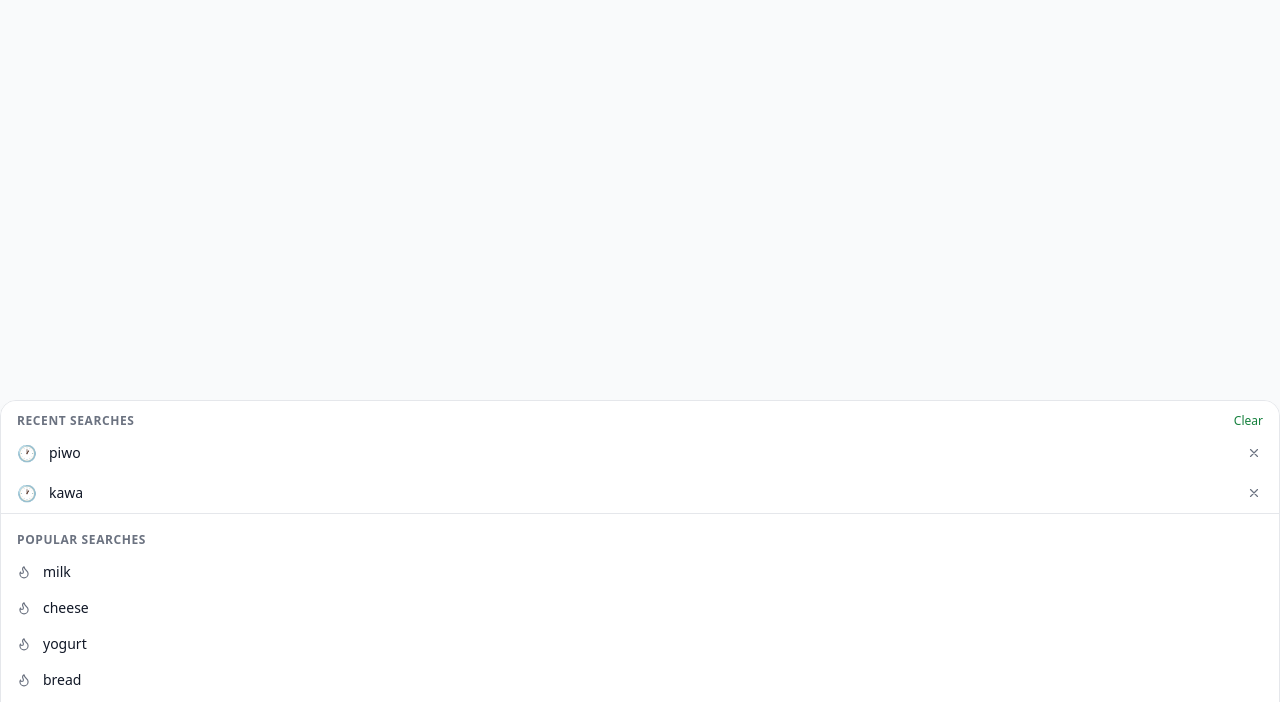
Test: SearchAutocomplete › clear button removes all recent searches
(page scrolled)
// Click the "Clear" button
Click the button "Clear" at (1248, 421), box left=1234, top=413, right=1263, bottom=429
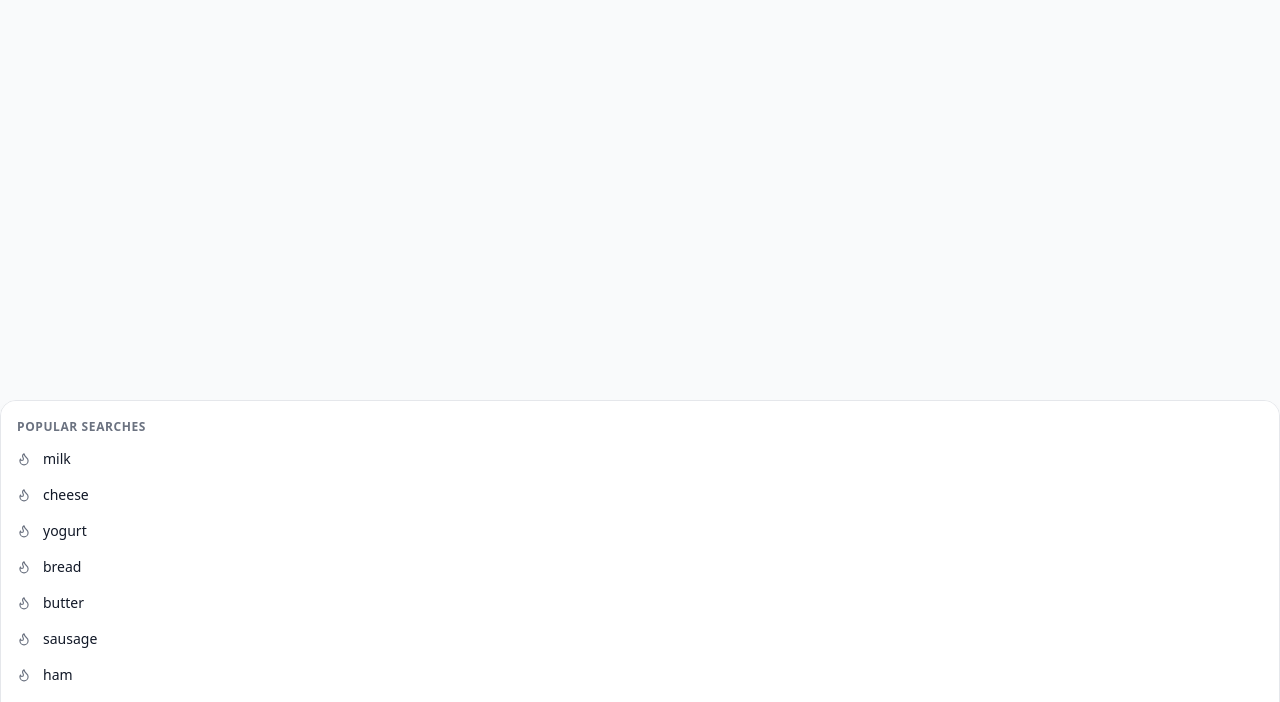
Expected: the text "Popular Searches" is shown, left=17, top=418, right=146, bottom=435
Expected: the text "Recent searches" is gone
